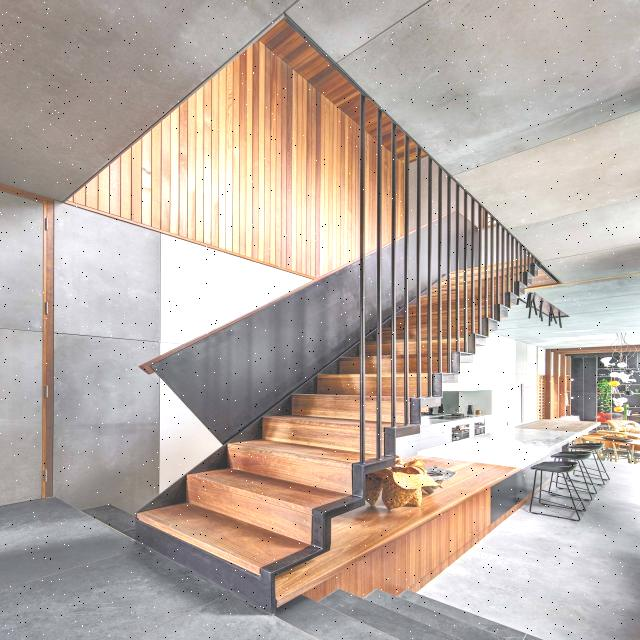stairs: (132, 252, 565, 614)
